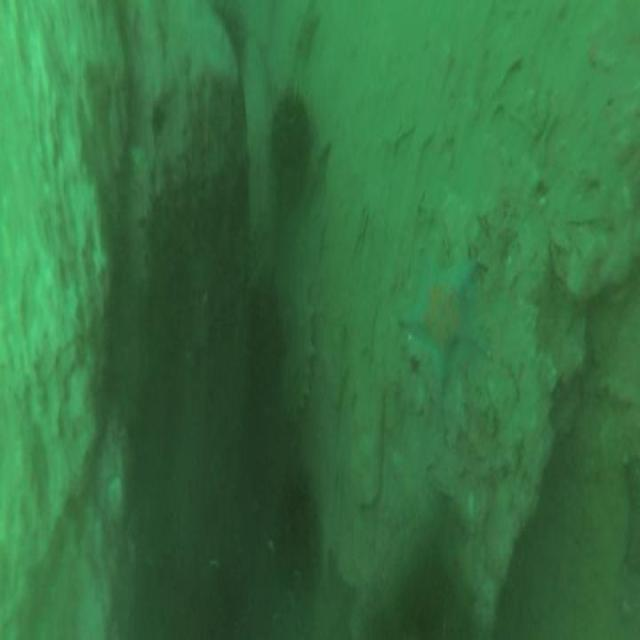echinus: (274, 88, 314, 170)
holothurian: (286, 276, 316, 426)
starfish: (402, 261, 485, 379)
